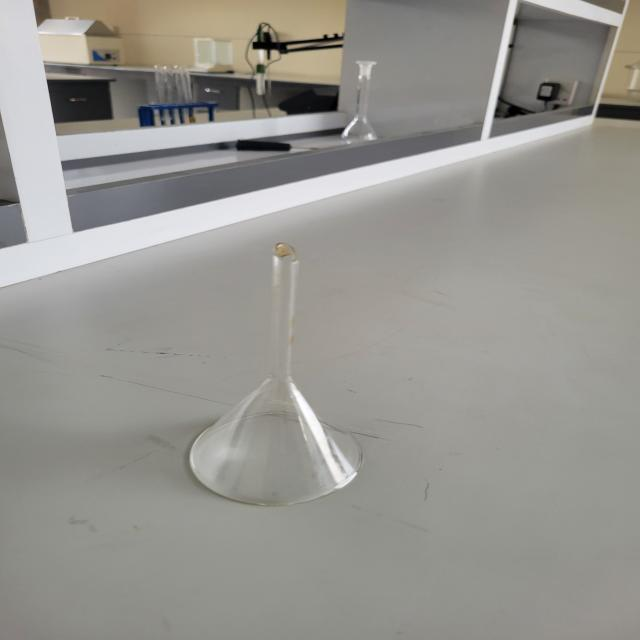Funnel: (130, 224, 444, 560)
